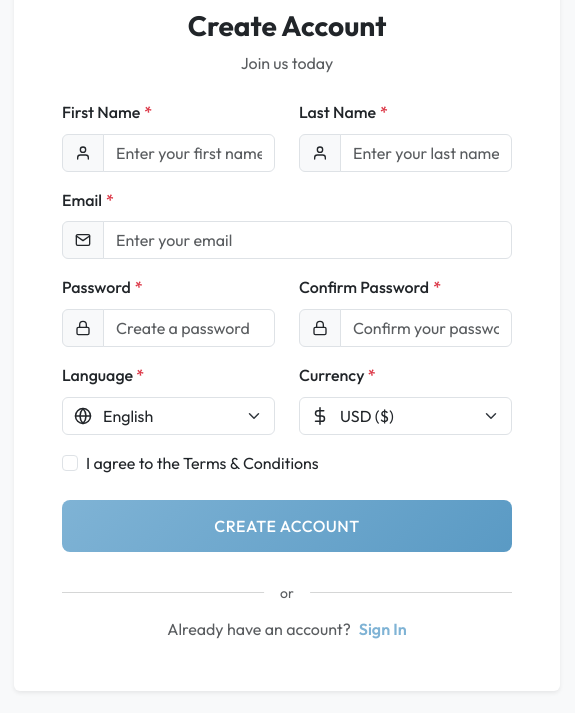
Test: Register Component › Form Validation › should validate required first name
Click the button "Create Account": (287, 526) left=62, top=500, right=512, bottom=552
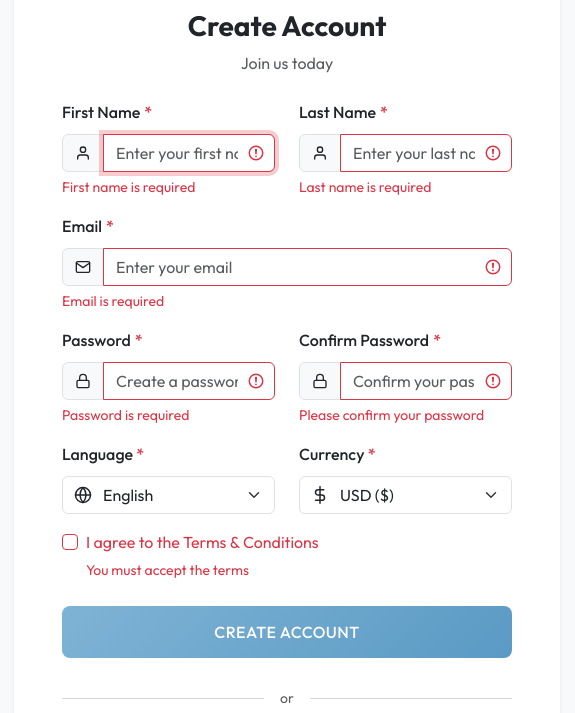
Now the text "First name is required" is shown, box left=62, top=178, right=195, bottom=196
